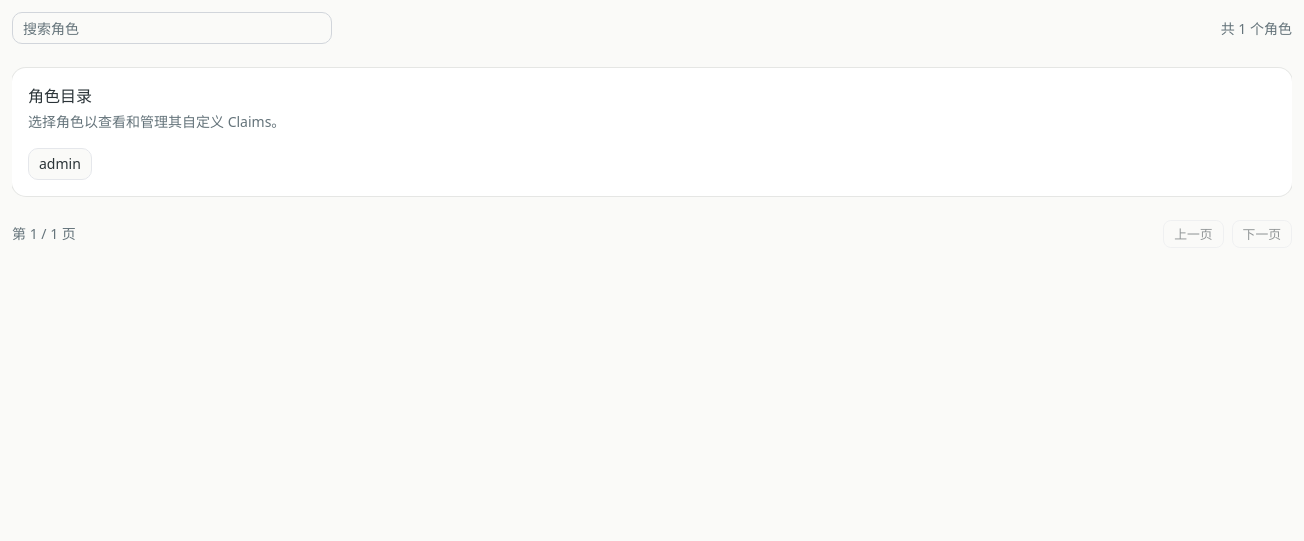
Test: RolesPage › loads selected role claims from the role directory
Click the button "admin" at (60, 164), box left=28, top=148, right=92, bottom=180
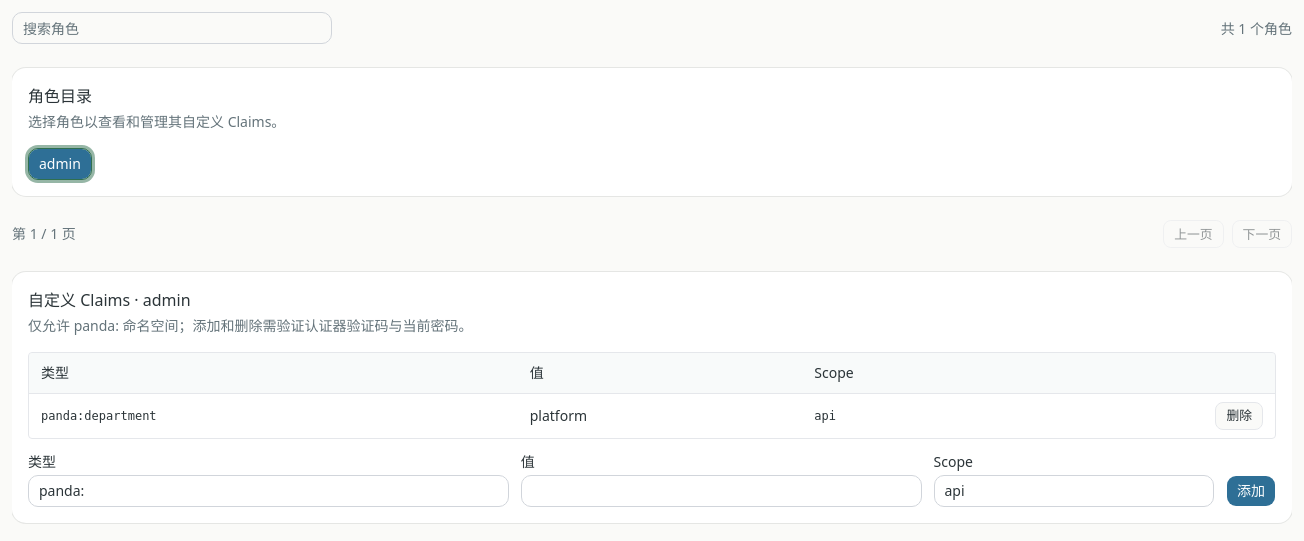
Expected: the text "panda:department" is shown, left=29, top=393, right=518, bottom=438
Expected: the text "platform" is shown, left=518, top=393, right=802, bottom=438
Expected: the text "api" is shown, left=802, top=393, right=1024, bottom=438
